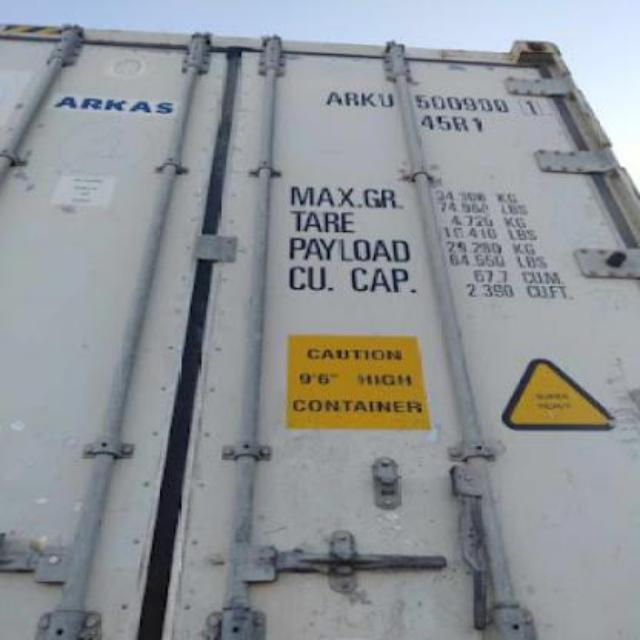0: (491, 96, 512, 122), (432, 93, 448, 111), (476, 96, 492, 114), (448, 94, 462, 110)
1: (522, 97, 540, 115)
5: (412, 93, 430, 111)
9: (462, 94, 478, 114)
A: (322, 89, 342, 107)
K: (360, 92, 378, 106)
R: (346, 90, 358, 106)
U: (381, 94, 394, 110)
